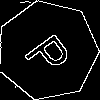P: (23, 25, 80, 80)
